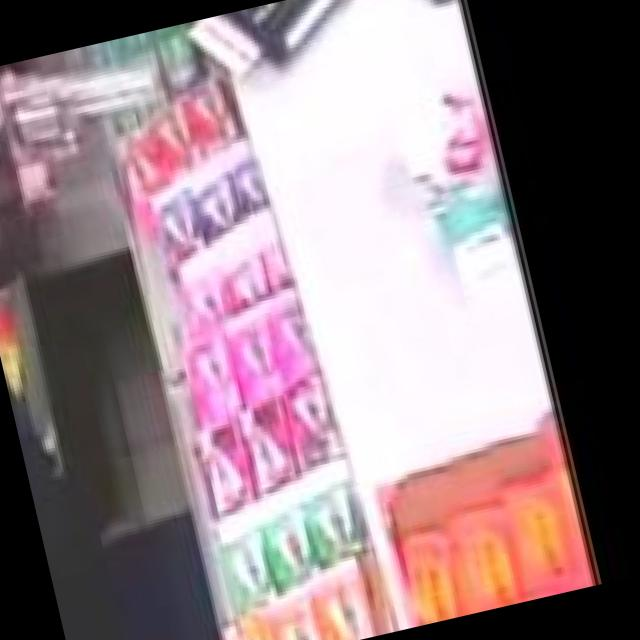Guns: (0, 25, 227, 304)
